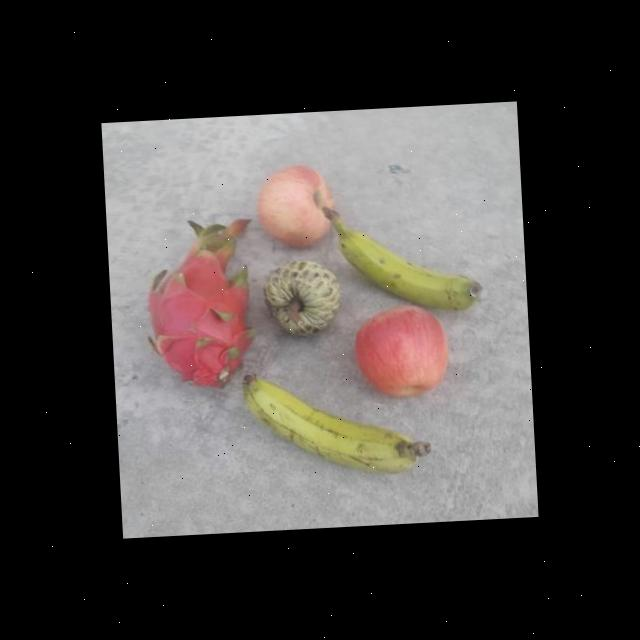Sakya fruit: (260, 258, 346, 340)
apple: (353, 303, 452, 401), (254, 163, 340, 251)
banana: (240, 362, 434, 482), (323, 199, 484, 316)
pitaya: (140, 216, 260, 394)
